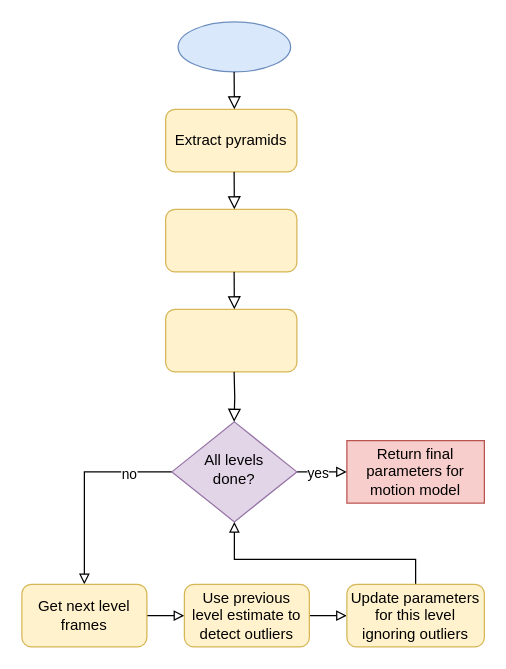
This 506x669 diagram has some shape labels left out. The box of each missing label's shape, as (x1, y1, x2, y2) in pixels:
Compute error at coarsest level: (164, 208, 297, 272)
Detect outliers (using threshold): (164, 308, 297, 372)
Load frames: (177, 21, 291, 72)
